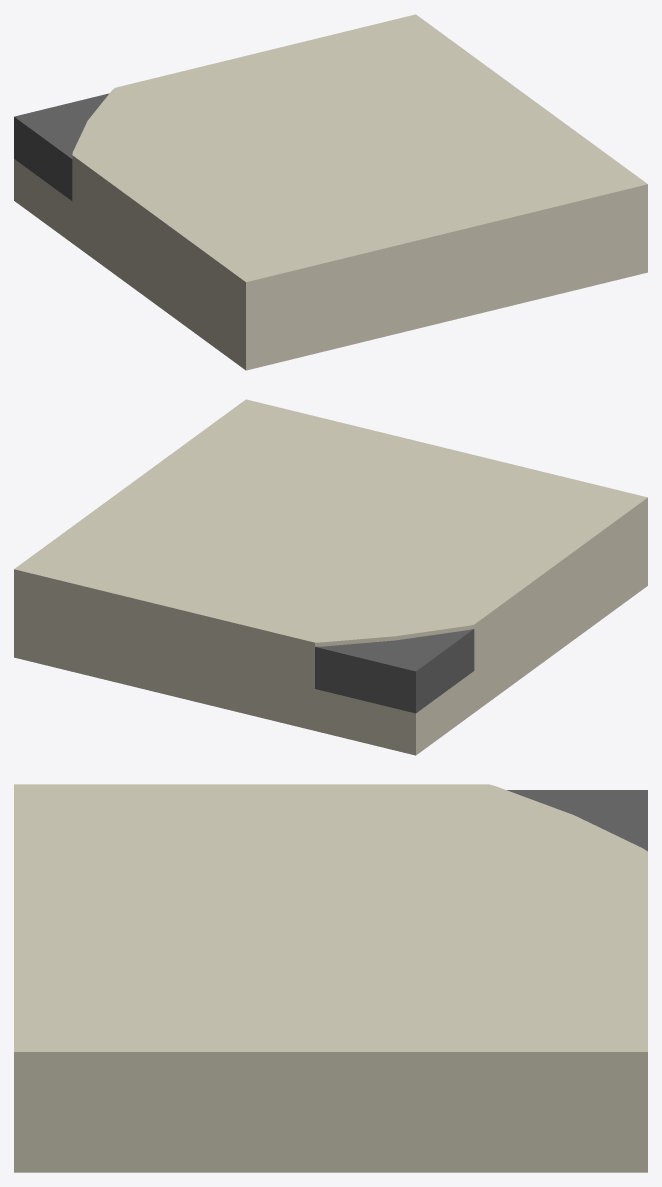
Rendered from tile002.dae.
3 views of the same model, one above another, from view 1: azimuth 30°, elevation 25°; view 2: azimuth 150°, elevation 25°; view 3: azimuth 270°, elevation 25° (orthographic). The views are drawn at different scales.
Parts seen in each view (by area): view 1: tile002; view 2: tile002; view 3: tile002.
Boxes of the visible parts, box(x1,y1,x2,y2) form: tile002: box(14, 14, 647, 370); tile002: box(14, 399, 647, 755); tile002: box(14, 784, 647, 1172).
Size of the model in its own units: 1 by 0.21 by 1.
